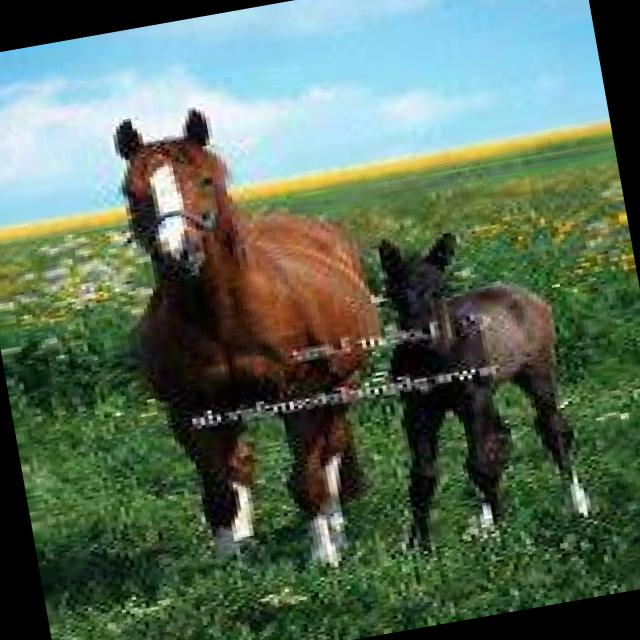horse: (102, 84, 416, 588), (350, 219, 589, 554)
